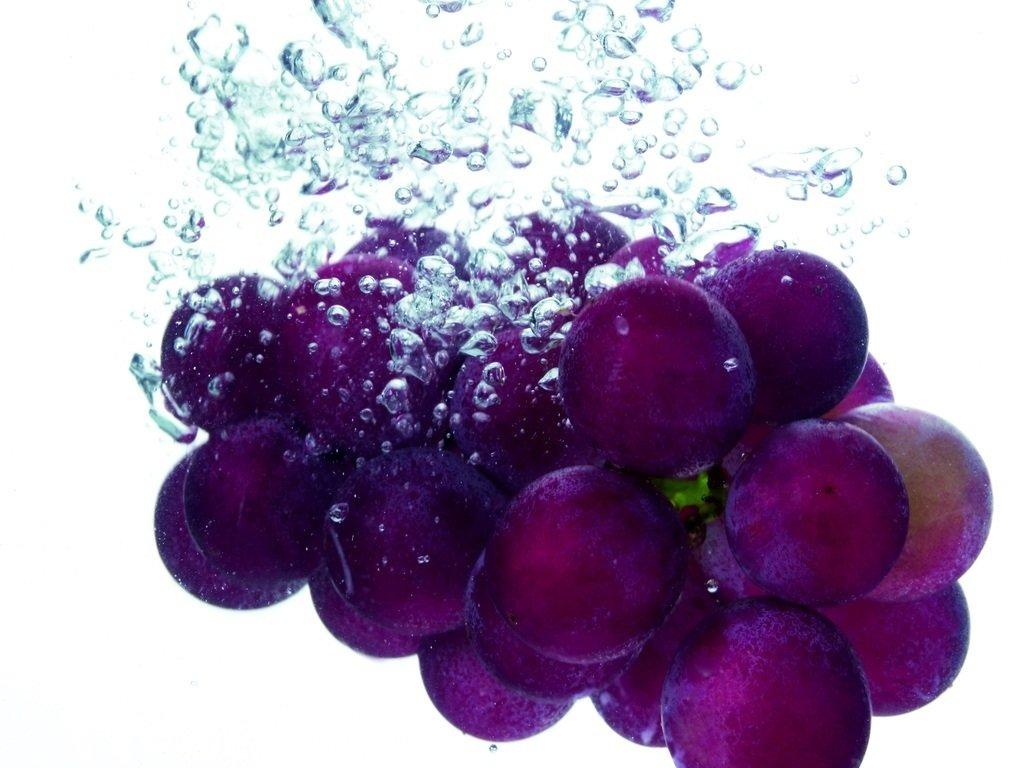grape: (123, 202, 961, 768)
